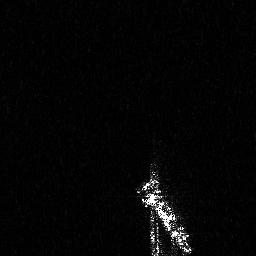ship: (134, 158, 194, 256)
